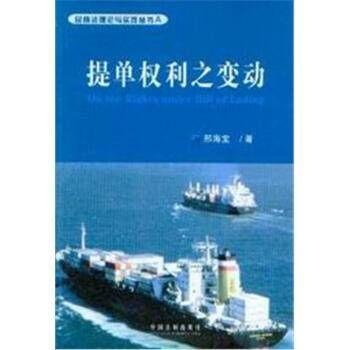Cargoship: (56, 220, 280, 343), (178, 170, 262, 215)
